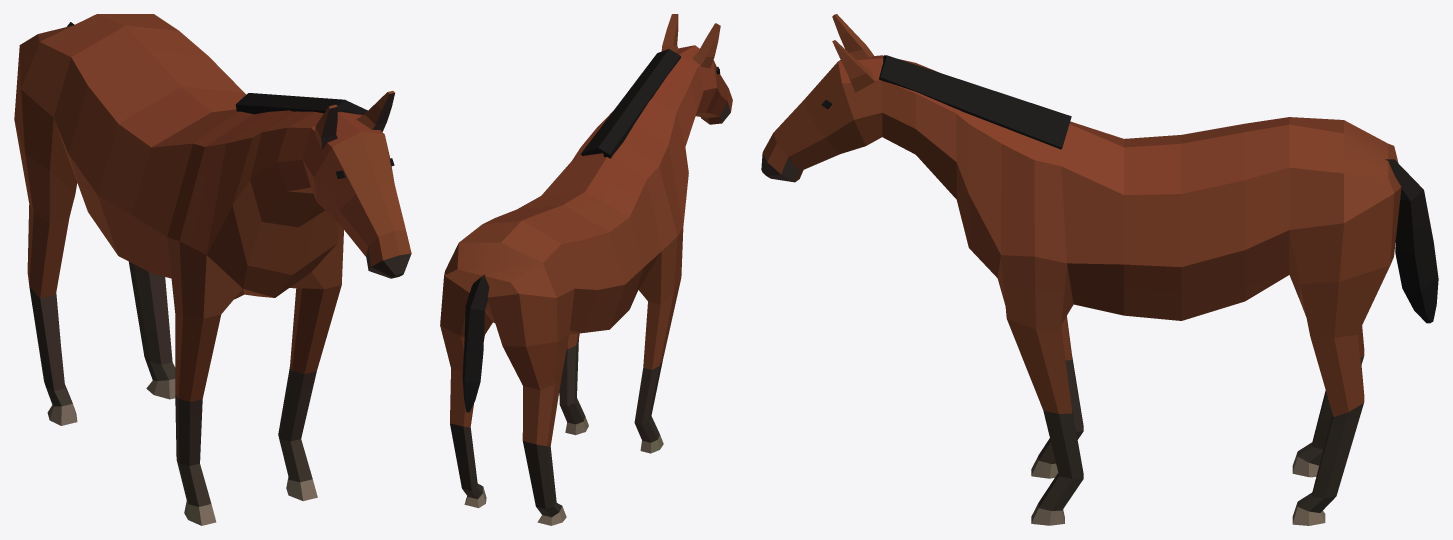
Rendered from animals-horse-124.glb.
The picture shows the model from 3 angles, left to right: view 1: azimuth 30°, elevation 25°; view 2: azimuth 150°, elevation 25°; view 3: azimuth 270°, elevation 25°; orthographic projection. The views are drawn at different scales.
Visible parts, largest first — view 1: Geo_Horse; view 2: Geo_Horse; view 3: Geo_Horse.
Boxes of the visible parts, <box> form: Geo_Horse: <box>14,14,411,525</box>; Geo_Horse: <box>440,14,732,525</box>; Geo_Horse: <box>761,14,1438,525</box>.
Size of the model in its own units: 73.07 by 203 by 266.
1 material, 1 textured.
